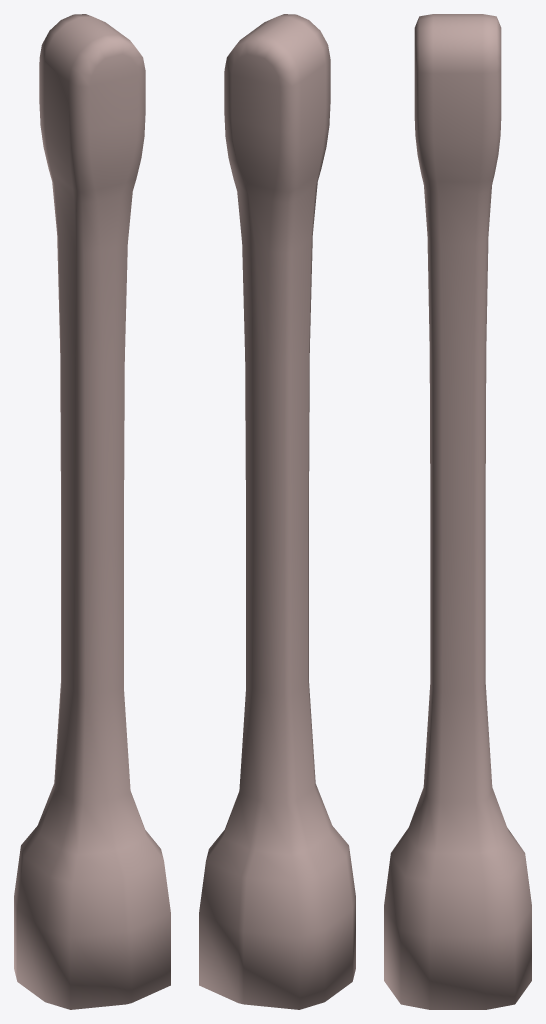
File: Strvl_handle_1.fbx
The picture shows the model from 3 angles, left to right: view 1: azimuth 30°, elevation 25°; view 2: azimuth 150°, elevation 25°; view 3: azimuth 270°, elevation 25°; orthographic projection.
Visible parts, largest first — view 1: Strvl_1; view 2: Strvl_1; view 3: Strvl_1.
Boxes of the visible parts, left/top/right/bottom form: Strvl_1: left=14, top=14, right=170, bottom=1009; Strvl_1: left=199, top=14, right=355, bottom=1009; Strvl_1: left=384, top=14, right=531, bottom=1009.
Bounding box in the file's own units: 13.19 × 97.71 × 13.61.
